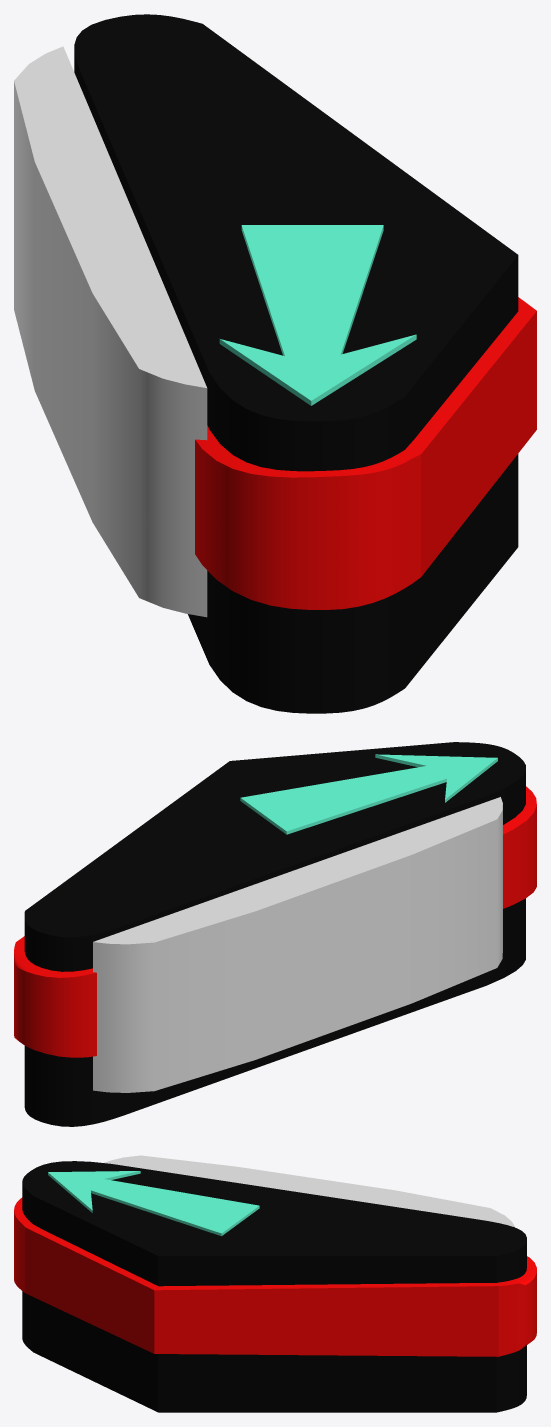
Rendered from R_SlingShot.fbx.
The picture shows the model from 3 angles, top to bottom: view 1: azimuth 30°, elevation 25°; view 2: azimuth 150°, elevation 25°; view 3: azimuth 270°, elevation 25°; orthographic projection. The views are drawn at different scales.
Parts seen in each view (by area): view 1: R_SlingShot, SlingShot COL001; view 2: SlingShot COL001, R_SlingShot; view 3: R_SlingShot, SlingShot COL001.
Boxes of the visible parts, bbox=[...] form: R_SlingShot: bbox=[74, 14, 536, 713]; SlingShot COL001: bbox=[14, 46, 207, 617]; SlingShot COL001: bbox=[93, 797, 502, 1092]; R_SlingShot: bbox=[14, 742, 536, 1126]; R_SlingShot: bbox=[14, 1161, 536, 1412]; SlingShot COL001: bbox=[104, 1155, 514, 1227].
Bounding box in the file's own units: 6.69 × 4.63 × 13.77.
